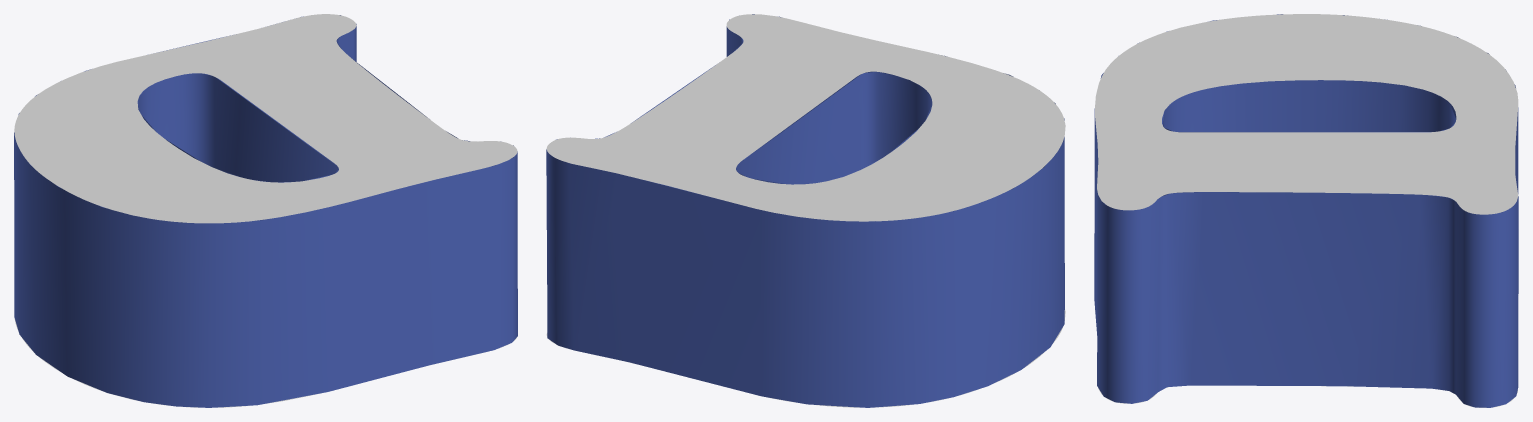
3 views of the same model, side by side, from view 1: azimuth 30°, elevation 25°; view 2: azimuth 150°, elevation 25°; view 3: azimuth 270°, elevation 25° (orthographic). The views are drawn at different scales.
Visible parts, largest first — view 1: D; view 2: D; view 3: D.
Boxes of the visible parts, x1,y1,x2,y2 form: D: [14, 14, 517, 407]; D: [546, 14, 1065, 407]; D: [1094, 14, 1518, 407].
Size of the model in its own units: 1.64 by 0.736 by 1.46.
